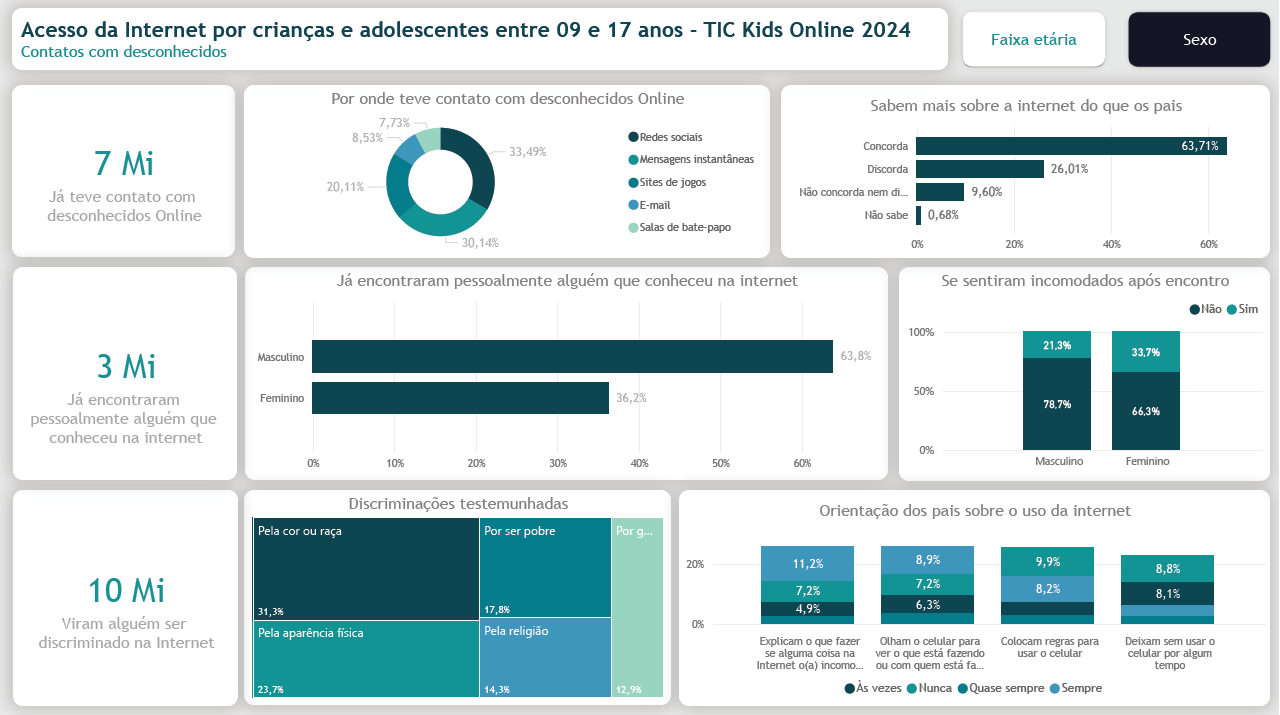

Layout of this report page (visuals, bound fields, positions):
{"tool":"powerbi","page":{"name":"Contato com desconhecidos","canvas":[1280,720],"ordinal":2},"visuals":[{"type":"card","fields":{"Values":["Sum(5- Contato com desconhecidos na.Valor)"]},"box":[13.4,88,222.5,172.5],"z":0},{"type":"clusteredBarChart","title":"Já encontraram pessoalmente alguém que conheceu na internet","fields":{"Y":["Sum(5- Contato pessoalmente com pes.Valor)"],"Category":["5- Contato pessoalmente com pes.Categoria"]},"box":[245.7,269.9,643.6,213.6],"z":1000},{"type":"donutChart","title":"Por onde teve contato com desconhecidos Online","fields":{"Category":["5- Por onde tiveram contato com.Resposta"],"Y":["Sum(5- Por onde tiveram contato com.Valor)"]},"box":[245.4,87.8,525.7,172.9],"z":2000},{"type":"hundredPercentStackedColumnChart","title":"Se sentiram incomodados após encontro","fields":{"Category":["5- se sentiram incomodados pós.Categoria"],"Y":["Sum(5- se sentiram incomodados pós.Valor)"],"Series":["5- se sentiram incomodados pós.Resposta"]},"box":[900,269.7,371,214],"z":3000},{"type":"treemap","title":"Discriminações testemunhadas","fields":{"Group":["7- Tipos de discriminação teste.Resposta"],"Values":["Sum(7- Tipos de discriminação teste.Valor)"]},"box":[245.4,493.1,426.9,215.4],"z":4000},{"type":"card","fields":{"Values":["Sum(7- Viram alguem ser discriminad.Valor)"]},"box":[14.3,492.9,224.3,215.7],"z":5000},{"type":"columnChart","title":"Orientação dos pais sobre o uso da internet","fields":{"Category":["3- Orientação dos pais.Indicador"],"Y":["Sum(3- Orientação dos pais.Valor)"],"Series":["3- Orientação dos pais.Resposta"]},"box":[680,492.9,591.4,215.7],"z":6000},{"type":"barChart","title":"Sabem mais sobre a internet do que os pais","fields":{"Y":["Sum(3- Percep  sobre habilidades no.Valor)"],"Category":["3- Percep  sobre habilidades no.Resposta"]},"box":[782.5,87.8,488.6,172.9],"z":7000},{"type":"textbox","box":[12.9,11.4,935.7,61.4],"z":9000},{"type":"card","fields":{"Values":["Sum(5- Contato pessoalmente com pes.Valor)"]},"box":[13.8,270.2,223.8,212.5],"z":10000},{"type":"advancedSlicerVisual","fields":{"Values":["1 Ja acessou internet.TipoCategoria"]},"box":[956.6,8.3,323.4,68.8],"z":10001}]}

Visuals, with their boxes in screenshot pixels (x1, y1, x2, y2), scaled from the page's 1280x720 canvas onto the 1280x715 screenshot:
card - Sum(5- Contato com desconhecidos na.Valor): 13 87 236 259
"Já encontraram pessoalmente alguém que conheceu na internet" clusteredBarChart: 246 268 889 480
"Por onde teve contato com desconhecidos Online" donutChart: 245 87 771 259
"Se sentiram incomodados após encontro" hundredPercentStackedColumnChart: 900 268 1271 480
"Discriminações testemunhadas" treemap: 245 490 672 704
card - Sum(7- Viram alguem ser discriminad.Valor): 14 489 239 704
"Orientação dos pais sobre o uso da internet" columnChart: 680 489 1271 704
"Sabem mais sobre a internet do que os pais" barChart: 782 87 1271 259
textbox: 13 11 949 72
card - Sum(5- Contato pessoalmente com pes.Valor): 14 268 238 479
advancedSlicerVisual - 1 Ja acessou internet.TipoCategoria: 957 8 1279 77
